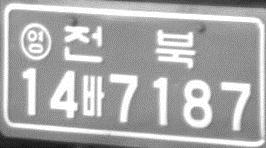1: (147, 75, 179, 126), (15, 66, 46, 117)
4: (49, 70, 78, 118)
7: (219, 80, 252, 131), (108, 72, 139, 122)
8: (181, 78, 213, 128)
바: (81, 74, 105, 117)
영: (18, 22, 51, 60)
전북_D: (61, 24, 195, 69)
